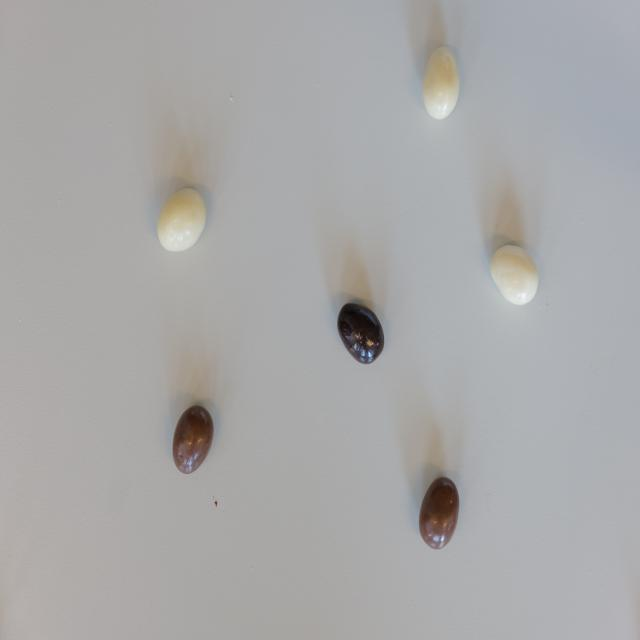Jelly_Black: (338, 302, 385, 364)
Jelly_Milk: (418, 476, 460, 548), (173, 404, 214, 475)
Jelly_White: (156, 190, 206, 252), (491, 242, 539, 306), (423, 48, 461, 121)
